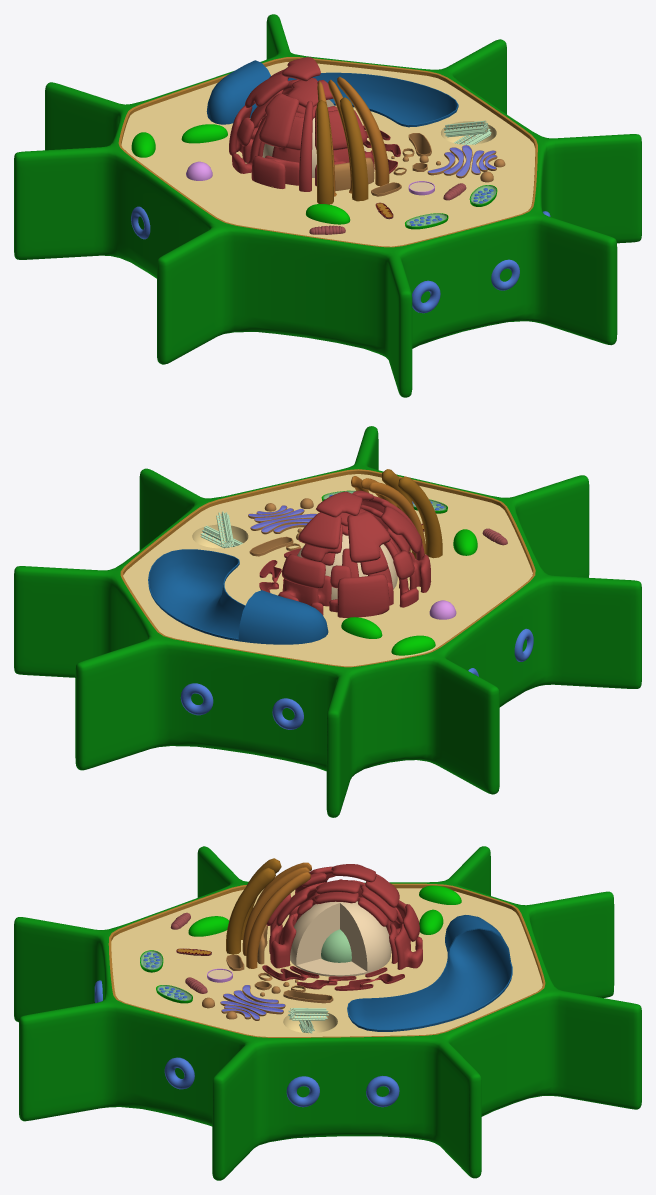
The model's file is celula-vegetal.glb.
The picture shows the model from 3 angles, top to bottom: view 1: azimuth 30°, elevation 25°; view 2: azimuth 150°, elevation 25°; view 3: azimuth 270°, elevation 25°; orthographic projection. The views are drawn at different scales.
Parts seen in each view (by area): view 1: Box008, Object029_Material #2612_0, Object011_19 - Default_0, Box021, Object014_14 - Default_0, Object028_07 - Default_0, Object015_15 - Default_0, Bitki, golgi sivisi, Golgi cisimcigi002, Box013, Box018 (+3 smaller); view 2: Box008, Object029_Material #2612_0, Object011_19 - Default_0, Box021, Object028_07 - Default_0, Object014_14 - Default_0, Object015_15 - Default_0, Golgi cisimcigi002, golgi sivisi, Sphere009, Torus006, Torus007 (+3 smaller); view 3: Box008, Object029_Material #2612_0, Box021, Object011_19 - Default_0, Object_Material #2592_0, Object028_07 - Default_0, Sphere009, Object015_15 - Default_0, Object014_14 - Default_0, Endoplazmik retikulum, Bitki, Golgi cisimcigi002 (+9 smaller).
Part boxes in pixels (box(x1,y1,x2,y2)): Box008: box(14, 14, 641, 397); Object029_Material #2612_0: box(121, 62, 535, 246); Object011_19 - Default_0: box(229, 57, 374, 191); Box021: box(206, 60, 458, 127); Object014_14 - Default_0: box(316, 97, 368, 204); Object028_07 - Default_0: box(118, 57, 537, 247); Object015_15 - Default_0: box(317, 76, 389, 196); Bitki: box(334, 133, 431, 196); golgi sivisi: box(428, 145, 496, 176); Golgi cisimcigi002: box(427, 145, 497, 178); Box013: box(181, 124, 227, 143); Box018: box(306, 204, 350, 224); Box008: box(14, 426, 641, 817); Object029_Material #2612_0: box(123, 474, 532, 666); Object011_19 - Default_0: box(278, 490, 430, 617); Box021: box(148, 549, 328, 644); Object028_07 - Default_0: box(120, 469, 535, 667); Object014_14 - Default_0: box(381, 469, 442, 558); Object015_15 - Default_0: box(351, 476, 425, 558); Golgi cisimcigi002: box(248, 505, 316, 534); golgi sivisi: box(248, 505, 316, 532); Sphere009: box(297, 534, 397, 599); Torus006: box(180, 683, 213, 715); Torus007: box(272, 698, 303, 729); Box008: box(14, 846, 641, 1180); Object029_Material #2612_0: box(111, 888, 542, 1036); Box021: box(347, 915, 512, 1031); Object011_19 - Default_0: box(266, 864, 422, 969); Object_Material #2592_0: box(296, 903, 367, 975); Object028_07 - Default_0: box(108, 883, 545, 1037); Sphere009: box(290, 901, 391, 976); Object015_15 - Default_0: box(242, 862, 311, 968); Object014_14 - Default_0: box(226, 858, 281, 954); Endoplazmik retikulum: box(262, 965, 404, 990); Bitki: box(226, 925, 333, 1003); Golgi cisimcigi002: box(220, 985, 285, 1020).
Bounding box in the file's own units: 14.71 × 5.53 × 16.66.
